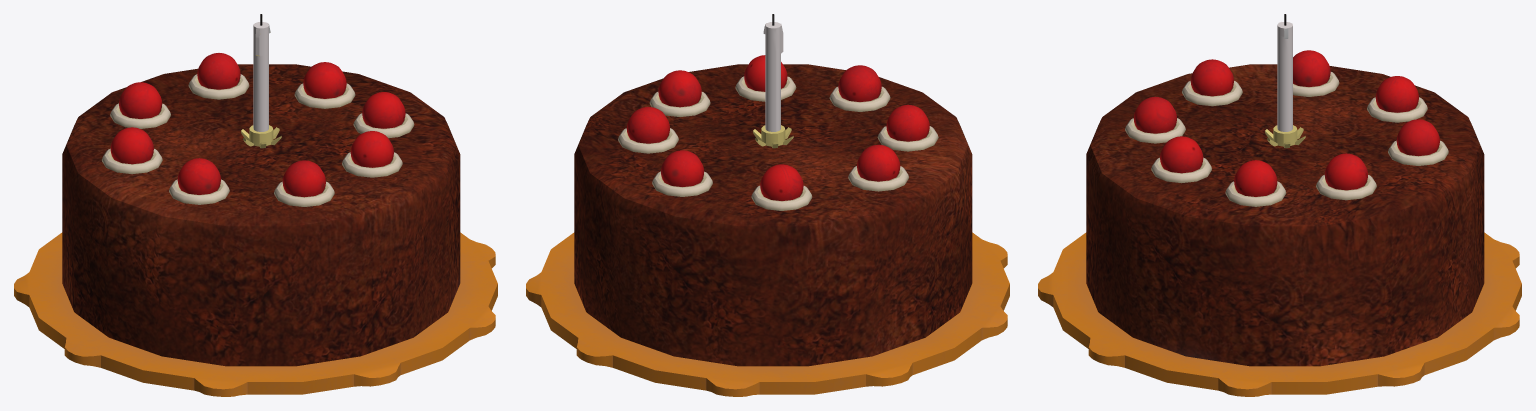
File: the_cake_is_a_lie.glb
3 views of the same model, side by side, from view 1: azimuth 30°, elevation 25°; view 2: azimuth 150°, elevation 25°; view 3: azimuth 270°, elevation 25° (orthographic).
Visible parts, largest first — view 1: Cake_2; view 2: Cake_2; view 3: Cake_2.
Boxes of the visible parts, left/top/right/bottom form: Cake_2: left=14, top=14, right=497, bottom=396; Cake_2: left=526, top=14, right=1009, bottom=396; Cake_2: left=1038, top=14, right=1521, bottom=396.
Bounding box in the file's own units: 2.07 × 1.31 × 2.04.
1 material, 1 textured.
